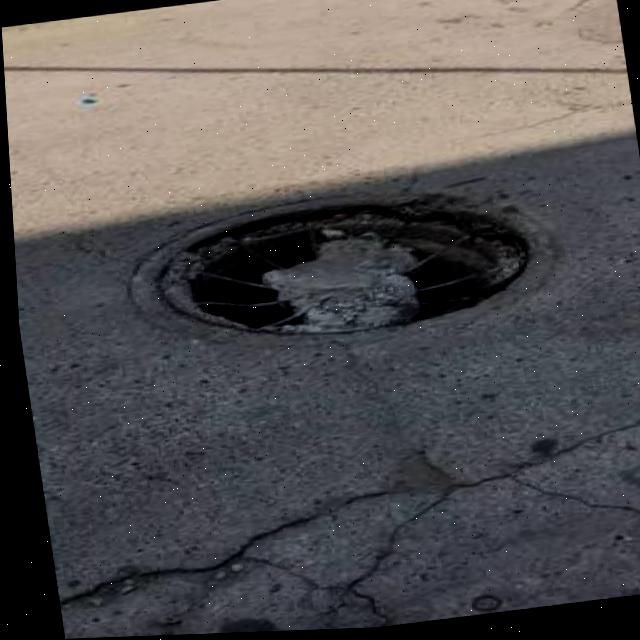manhole: (103, 160, 566, 365)
